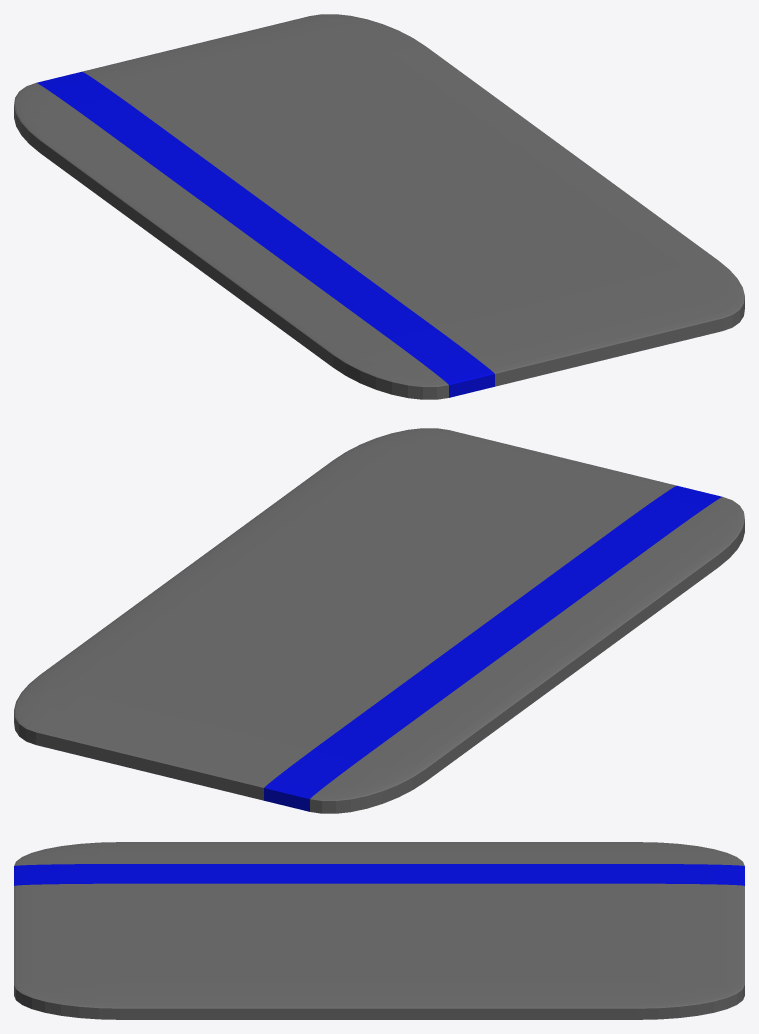
File: BlueKeyCard.glb
The picture shows the model from 3 angles, top to bottom: view 1: azimuth 30°, elevation 25°; view 2: azimuth 150°, elevation 25°; view 3: azimuth 270°, elevation 25°; orthographic projection. The views are drawn at different scales.
Visible parts, largest first — view 1: Cube; view 2: Cube; view 3: Cube.
Boxes of the visible parts, bbox=[...] form: Cube: bbox=[14, 14, 744, 399]; Cube: bbox=[14, 428, 744, 813]; Cube: bbox=[14, 842, 744, 1019].
Bounding box in the file's own units: 0.0525 × 0.00233 × 0.0974.
